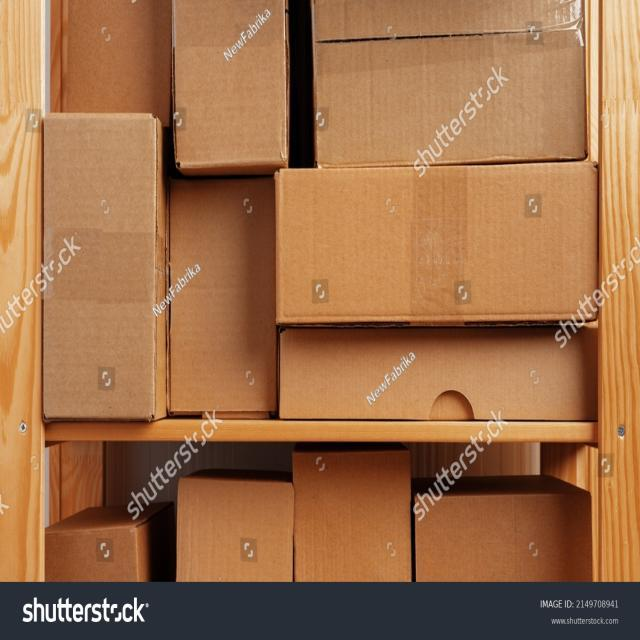BoxFace: (280, 160, 600, 324), (314, 32, 587, 174), (42, 116, 154, 422), (279, 323, 600, 423), (167, 174, 280, 414), (175, 0, 286, 171), (414, 494, 594, 581), (293, 447, 412, 578), (178, 476, 294, 580)
